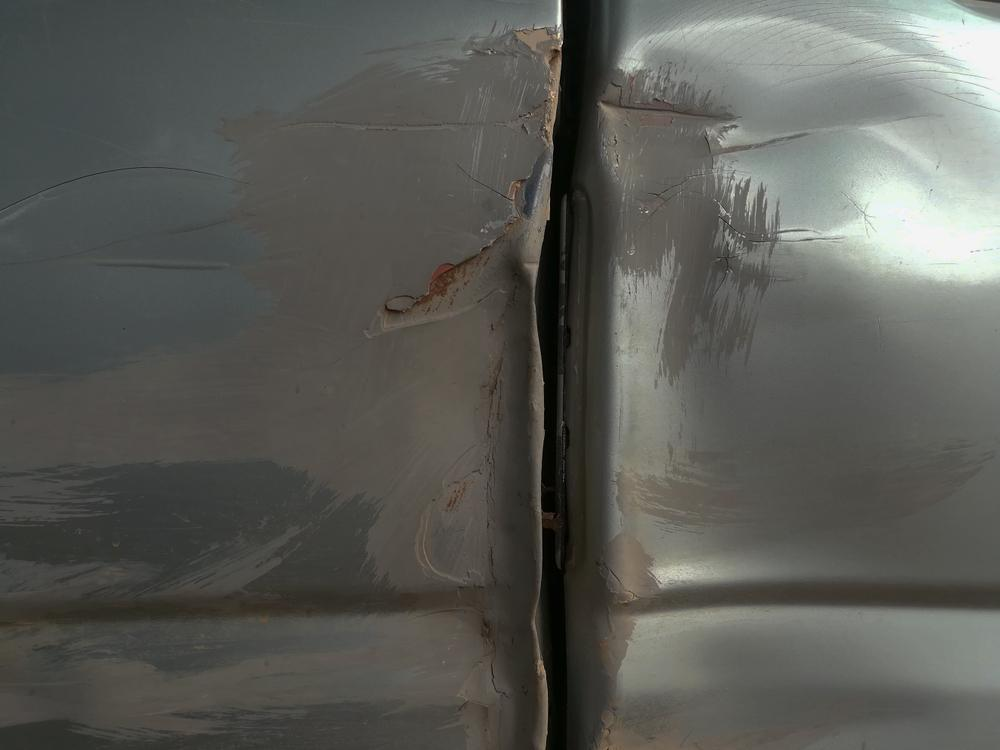dent: (596, 12, 1000, 750)
scratch: (0, 15, 554, 750)
